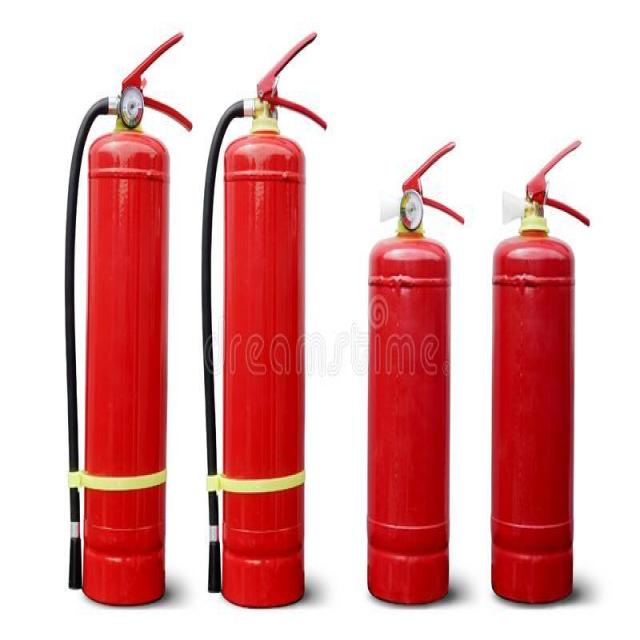fire_extinguisher: (197, 29, 329, 614), (62, 27, 194, 607), (363, 137, 466, 607), (488, 135, 590, 609)
